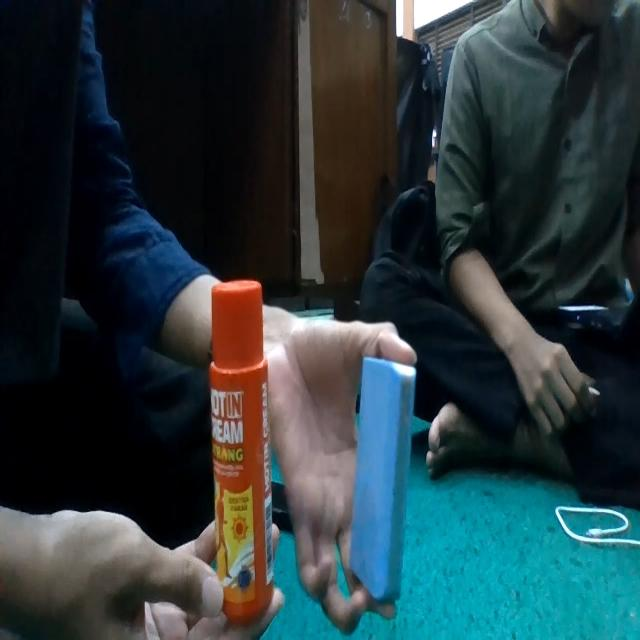Boncabe: (209, 281, 274, 623)
Powerbank: (350, 356, 416, 601)
